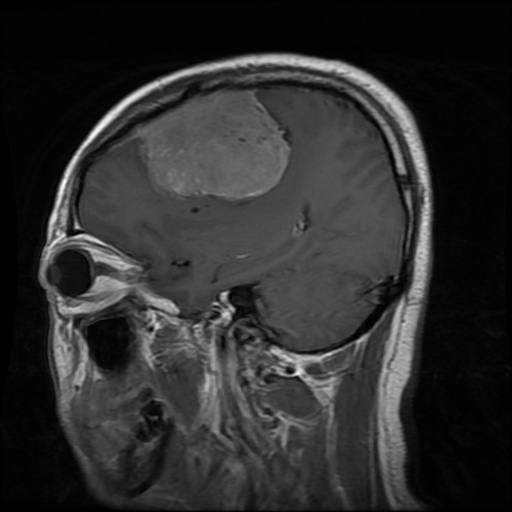meningioma: (138, 90, 289, 200)
